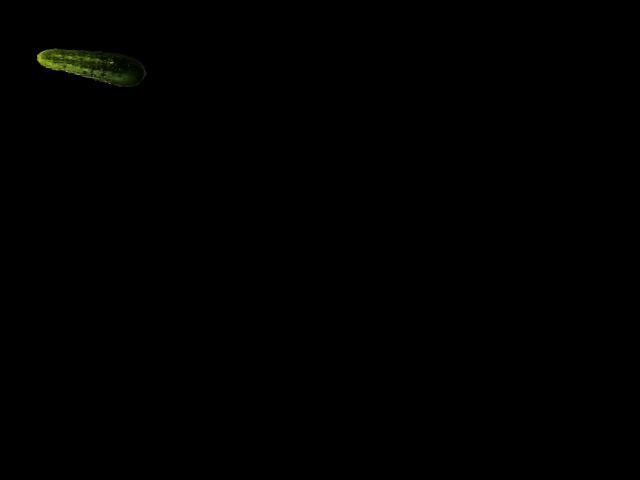cucumber: (35, 39, 149, 90)
